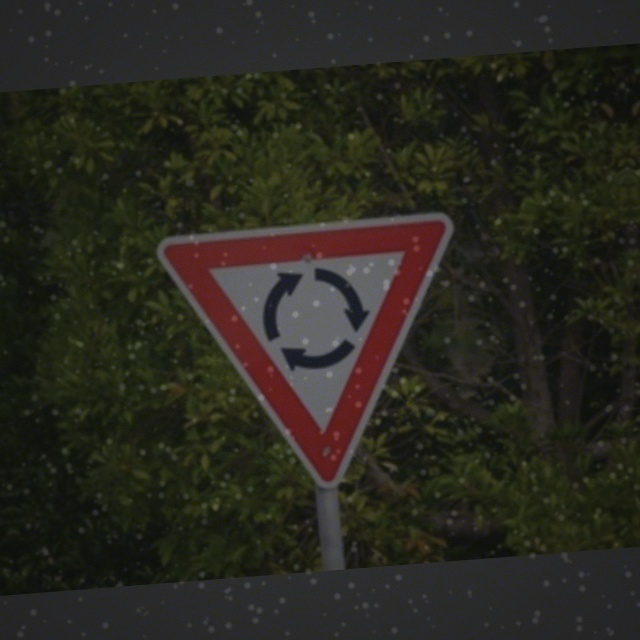Round_About: (160, 202, 469, 495)
